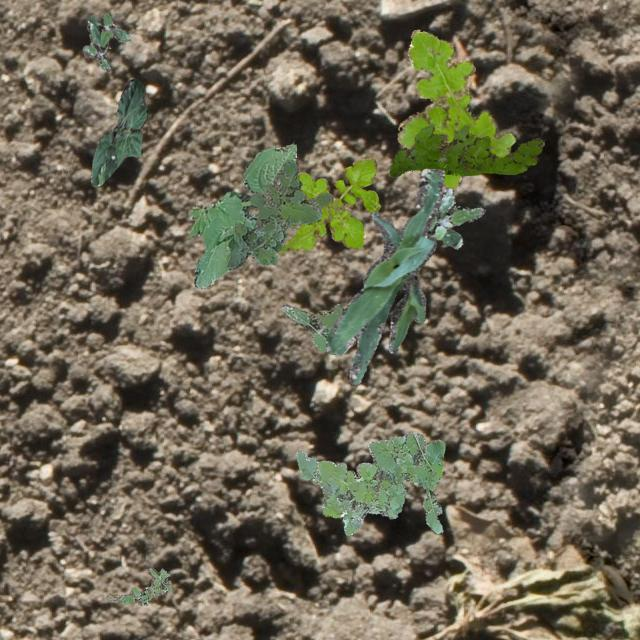crop: (324, 168, 444, 384), (90, 78, 146, 186)
weed: (396, 28, 514, 188), (188, 142, 300, 288), (294, 431, 444, 534), (225, 158, 332, 268), (277, 156, 378, 252), (388, 122, 542, 176), (428, 186, 482, 248), (280, 302, 344, 350), (82, 11, 130, 70), (106, 566, 170, 604)
